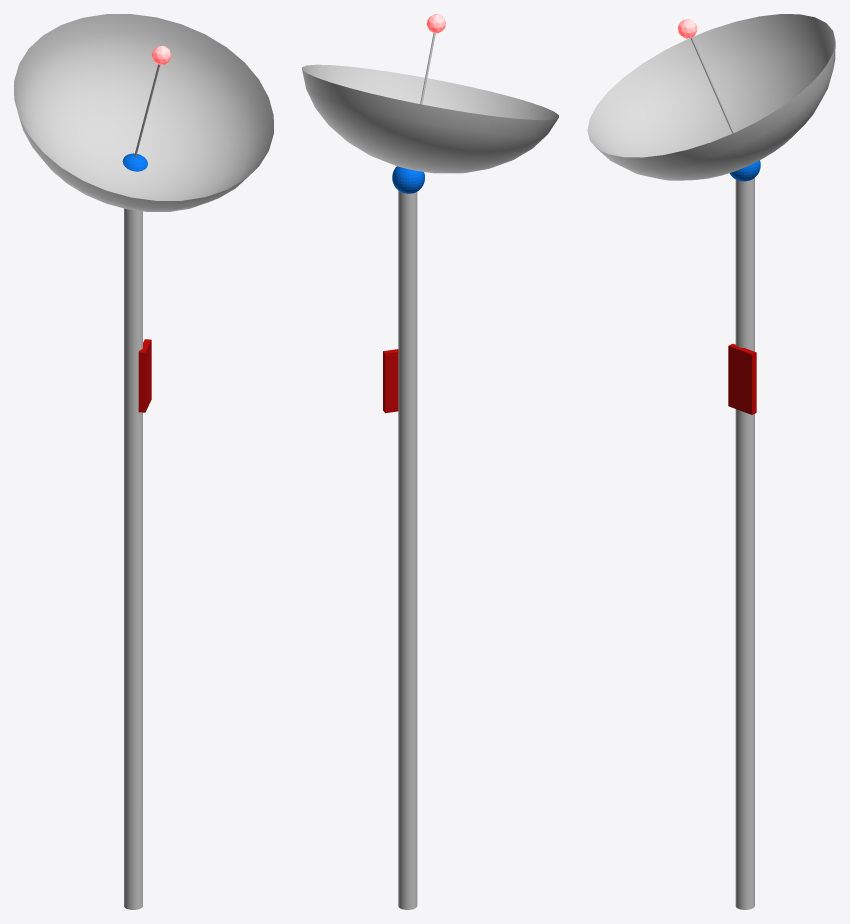
Rendered from antenna.glb.
3 views of the same model, side by side, from view 1: azimuth 30°, elevation 25°; view 2: azimuth 150°, elevation 25°; view 3: azimuth 270°, elevation 25° (orthographic).
Visible parts, largest first — view 1: Sphere, Cylinder.040, Cube.011; view 2: Sphere, Cylinder.040, Cube.011, Sphere.015; view 3: Sphere, Cylinder.040, Cube.011.
Boxes of the visible parts, box(x1,y1,x2,y2) form: Sphere: box(14, 14, 273, 211); Cylinder.040: box(124, 208, 142, 909); Cube.011: box(138, 339, 151, 412); Sphere: box(302, 64, 558, 173); Cylinder.040: box(398, 191, 417, 909); Cube.011: box(383, 349, 398, 413); Sphere.015: box(392, 166, 424, 193); Sphere: box(587, 14, 835, 180); Cylinder.040: box(735, 178, 754, 909); Cube.011: box(728, 344, 756, 414).
Bounding box in the file's own units: 0.2457 × 0.8991 × 0.2283.
